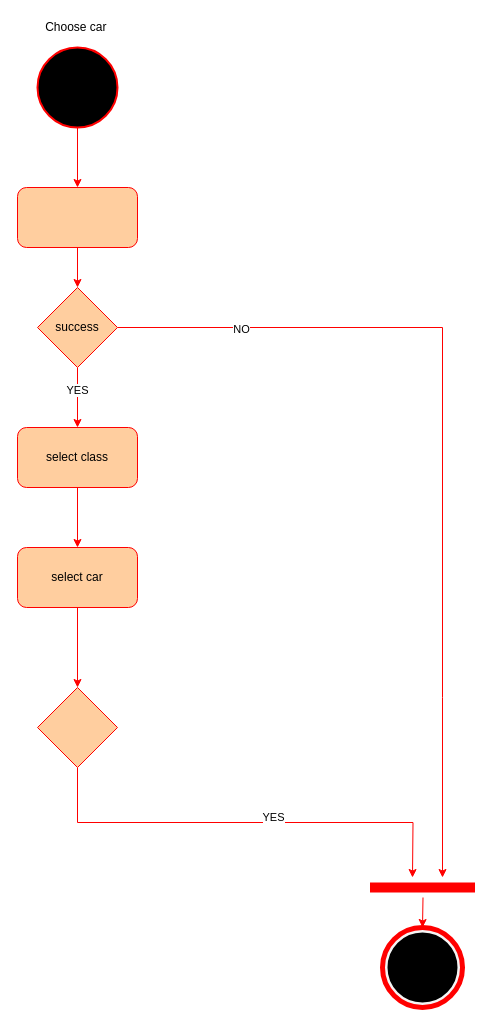
This 498x1027 diagram has some shape labels left out. The shapes that lost their labels are listed below. From the top down, each one's box as (x1, y1, x2, y2) in pixels, then its label:
(16, 186, 138, 248): sign in
(36, 686, 118, 768): car avalible/not deleted
